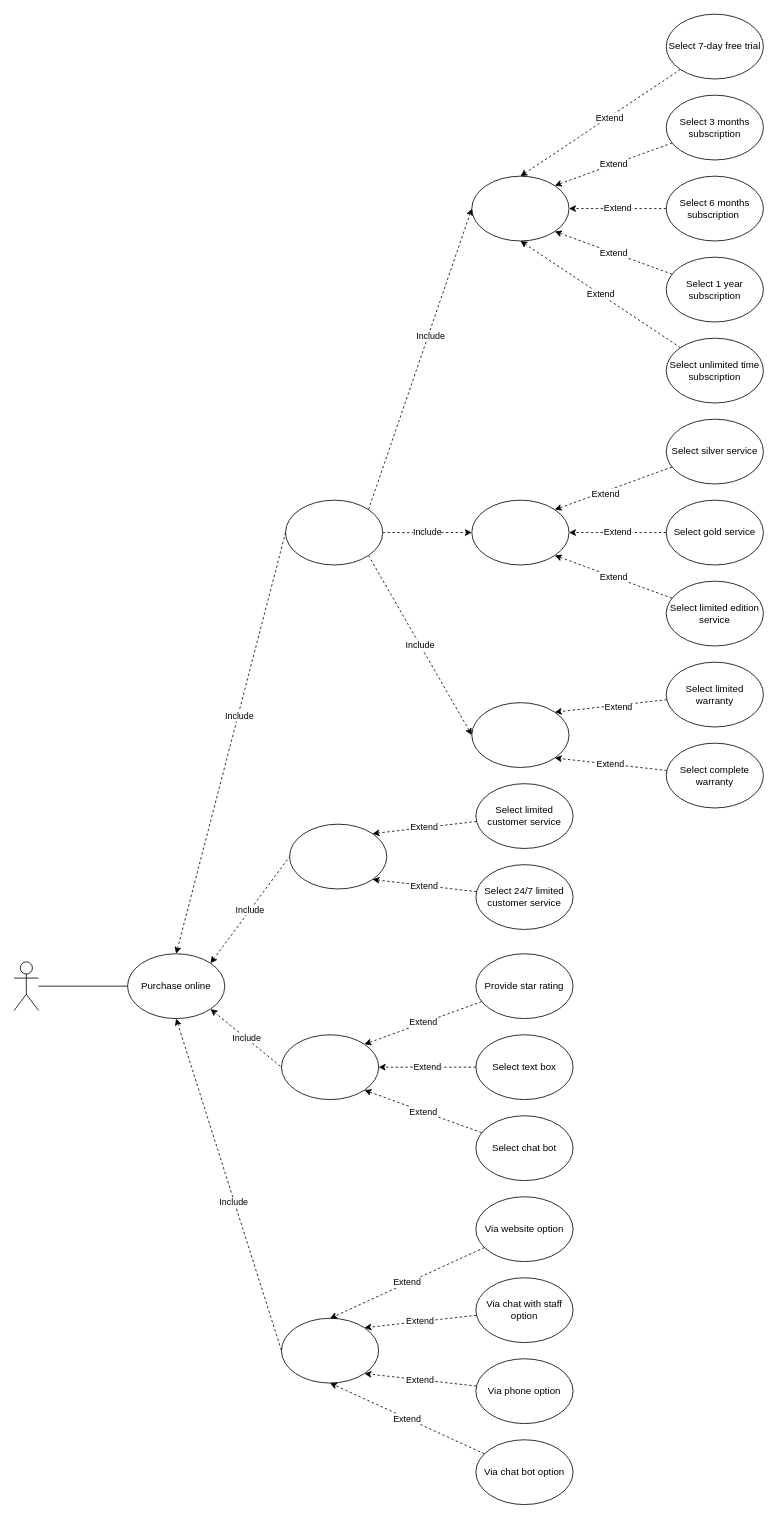
The diagram is 778 pixels wide and 1519 high, and some of its shapes have lost their labels. The shapes that lost their labels are listed below. From the top down, each one's centre as x and y in pixels, then its label:
[520,208]: Choose period of subscription
[334,532]: Personalise Service Access
[520,532]: Choose type of service
[520,734]: Choose type of warranty
[338,856]: Perosnalise Service Support
[25,985]: User
[330,1067]: Provide Feedback
[330,1350]: Track Orders
